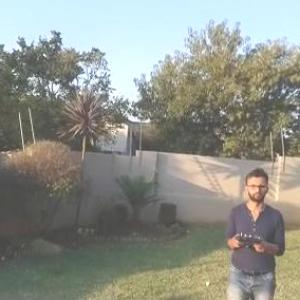follow: (221, 164, 288, 299)
